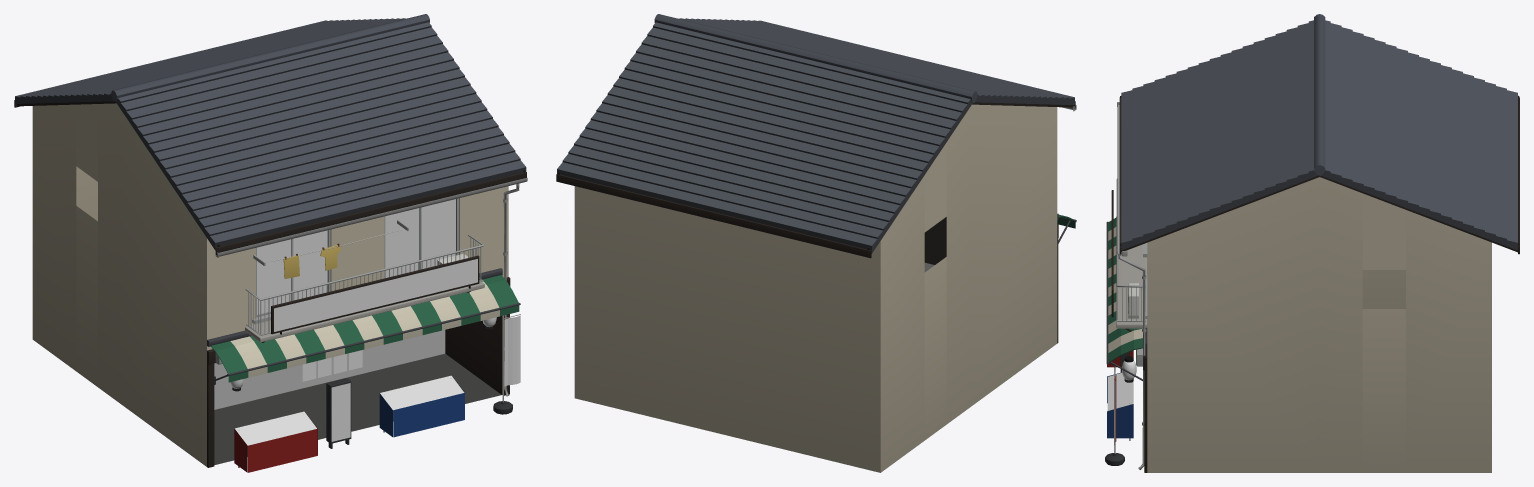
Rendered from ShopSouvenirKM.fbx.
3 renders of one model, left to right at view 1: azimuth 30°, elevation 25°; view 2: azimuth 150°, elevation 25°; view 3: azimuth 270°, elevation 25°, orthographic. The views are drawn at different scales.
Visible parts, largest first — view 1: ShopSouvenirKM; view 2: ShopSouvenirKM; view 3: ShopSouvenirKM.
Part boxes in pixels (<box>): ShopSouvenirKM: <box>14,14,527,472</box>; ShopSouvenirKM: <box>556,14,1076,472</box>; ShopSouvenirKM: <box>1105,14,1519,472</box>.
Size of the model in its own units: 8.3 by 7.95 by 9.63.
